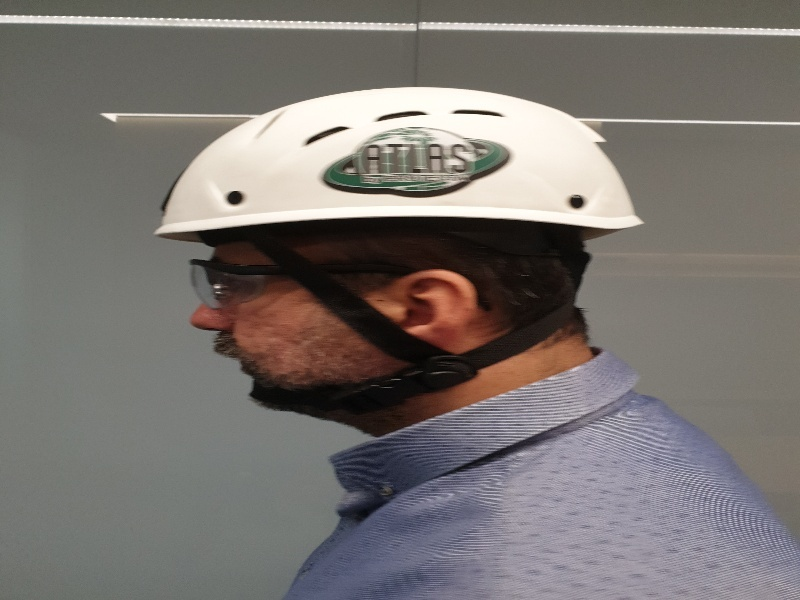Baret: (154, 86, 646, 234)
Gozluk: (188, 258, 421, 315)
